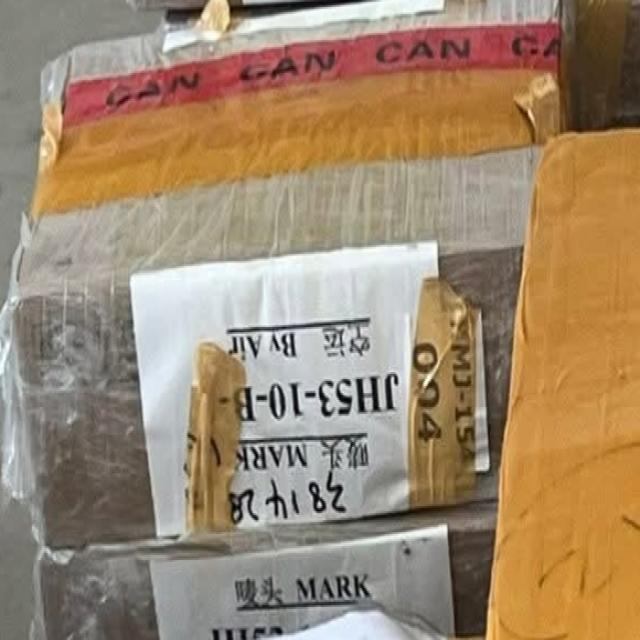carton_box: (7, 4, 590, 545)
export_mark_label: (151, 277, 429, 539)
package_damage: (6, 27, 83, 306), (507, 76, 576, 165)
